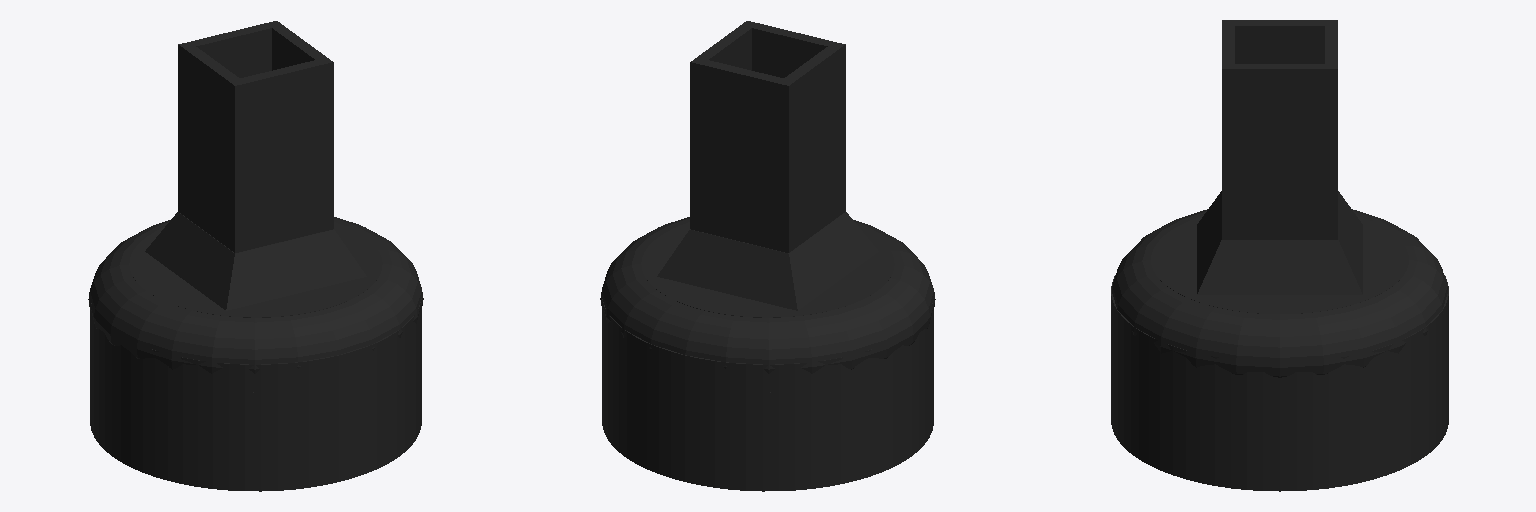
URDF robot description (suction-base.urdf):
<?xml version="0.0" ?>
<robot name="suction-base.urdf">
  <material name="DarkGrey">
    <color rgba="0.2 0.2 0.2 1.0"/>
  </material>
  <link name="baseLink">
    <contact>
      <lateral_friction value="1.0"/>
      <rolling_friction value="0.0001"/>
      <inertia_scaling value="3.0"/>
    </contact>
    <inertial>
      <origin rpy="0 0 0" xyz="0 0 0"/>
       <mass value=".1"/>
       <inertia ixx="1" ixy="0" ixz="0" iyy="1" iyz="0" izz="1"/>
    </inertial>
    <visual>
      <origin rpy="0 0 0" xyz="0 0 0"/>
      <geometry>
        <mesh filename="base.obj" scale="0.001 0.001 0.001"/>
      </geometry>
      <material name="DarkGrey"/>
    </visual>
    <!-- <collision>
      <origin rpy="0 0 0" xyz="0 0 0"/>
      <geometry>
        <mesh filename="base.obj" scale="0.001 0.001 0.001"/>
      </geometry>
    </collision> -->
  </link>

  <joint name="headJoint" type="fixed">
    <parent link="baseLink"/>
    <child link="midLink"/>
    <origin rpy="0.0 0.0 0.0" xyz="0.0 0.0 0.015"/>
    <axis xyz="0 0 1"/>
    <limit effort="150.0" lower="-6.28318530718" upper="6.28318530718" velocity="3.15"/>
    <dynamics damping="10.0" friction="0.0"/>
  </joint>

  <link name="midLink">
    <contact>
      <lateral_friction value="1.0"/>
      <rolling_friction value="0.0001"/>
      <inertia_scaling value="3.0"/>
    </contact>
    <inertial>
      <origin rpy="0 0 0" xyz="0 0 0"/>
       <mass value=".1"/>
       <inertia ixx="1" ixy="0" ixz="0" iyy="1" iyz="0" izz="1"/>
    </inertial>
    <visual>
      <origin rpy="0 0 0" xyz="0 0 0"/>
      <geometry>
        <mesh filename="mid.obj" scale="0.001 0.001 0.001"/>
      </geometry>
      <material name="DarkGrey"/>
    </visual>
    <collision>
      <origin rpy="0 0 0" xyz="0 0 0"/>
      <geometry>
        <mesh filename="mid.obj" scale="0.001 0.001 0.001"/>
      </geometry>
    </collision>
  </link>


</robot>


--- Facts derived from the render (not from the file) ---
The picture shows the robot from 3 angles, left to right: view 1: azimuth 30°, elevation 25°; view 2: azimuth 150°, elevation 25°; view 3: azimuth 270°, elevation 25°; orthographic projection.
Model suction-base.urdf with 2 links and 1 joints (1 fixed), rooted at baseLink, posed all joints at 0.
Links seen in each view (by area): view 1: midLink, baseLink; view 2: midLink, baseLink; view 3: midLink, baseLink.
Link boxes in pixels (x1,y1,x2,y2): midLink: (88,21,423,431); baseLink: (90,327,421,491); midLink: (600,21,935,431); baseLink: (602,327,933,491); midLink: (1111,20,1448,430); baseLink: (1111,325,1448,491).
Bounding box of the posed robot: 0.077 × 0.076 × 0.093 m (x, y, z).
Meshes: 2 distinct files referenced, 2 mesh visuals loaded (2 OBJ).